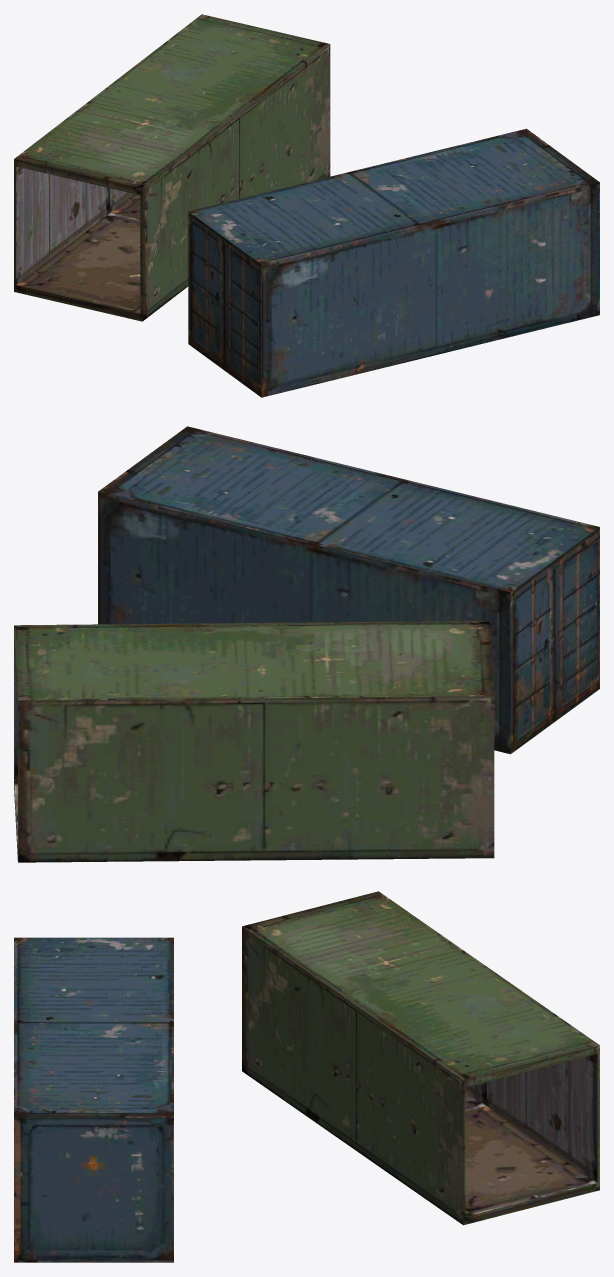
Rendered from containers.gltf.
3 renders of one model, top to bottom at view 1: azimuth 30°, elevation 25°; view 2: azimuth 150°, elevation 25°; view 3: azimuth 270°, elevation 25°, orthographic. The views are drawn at different scales.
Visible parts, largest first — view 1: Cargo_1_close, Cargo_1_open; view 2: Cargo_1_open, Cargo_1_close; view 3: Cargo_1_open, Cargo_1_close.
Boxes of the visible parts, x1,y1,x2,y2 form: Cargo_1_close: (188,128,599,397); Cargo_1_open: (14,14,330,321); Cargo_1_open: (14,620,494,862); Cargo_1_close: (98,426,599,754); Cargo_1_open: (242,891,599,1225); Cargo_1_close: (14,937,173,1262).
Bounding box in the file's own units: 9.9 × 3.07 × 10.99.
2 materials, 2 textured.
